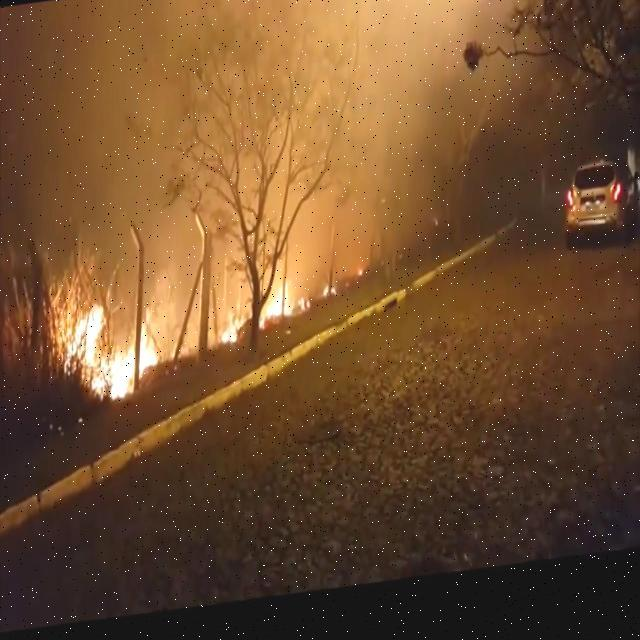Fire: (71, 302, 158, 411), (260, 278, 312, 336), (222, 310, 248, 351), (323, 296, 337, 306)
